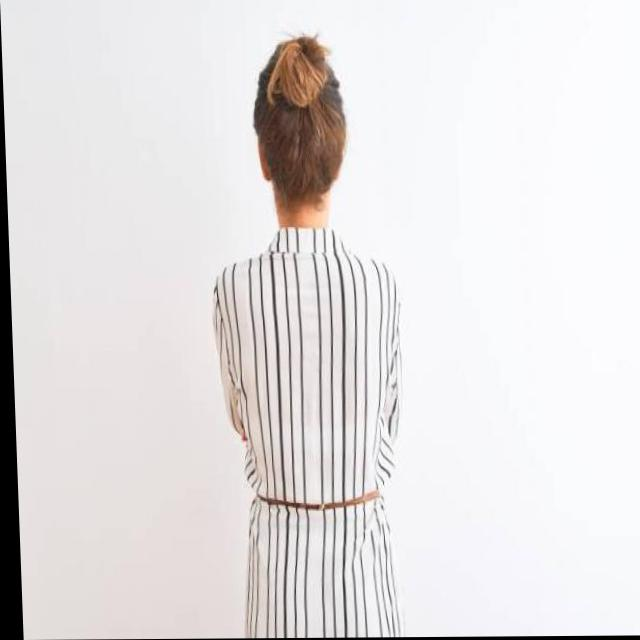no helmet: (232, 39, 373, 238)
